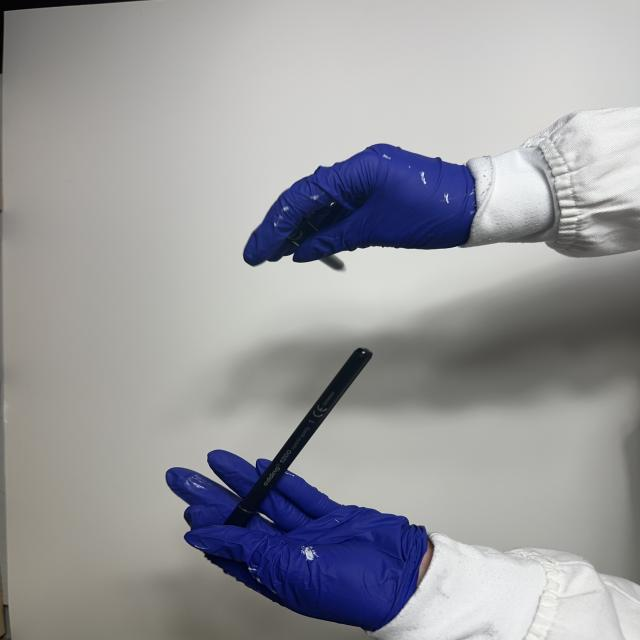gloves_contaminated: (168, 468, 430, 630), (244, 145, 476, 265)
